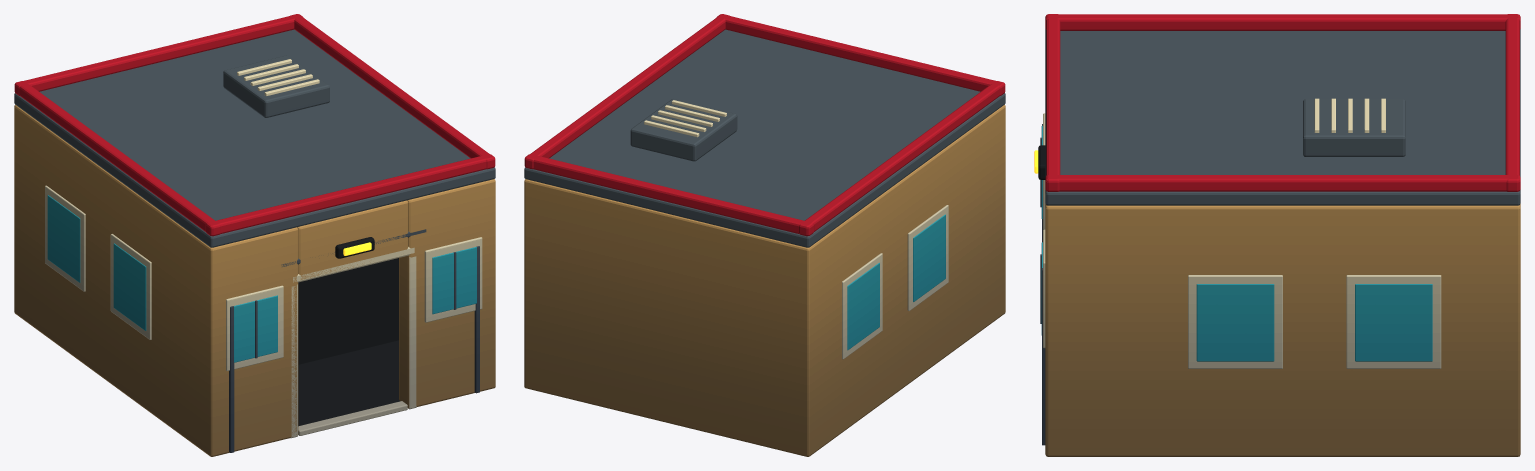
The model's file is relayHouse.glb.
The picture shows the model from 3 angles, left to right: view 1: azimuth 30°, elevation 25°; view 2: azimuth 150°, elevation 25°; view 3: azimuth 270°, elevation 25°; orthographic projection. The views are drawn at different scales.
Visible parts, largest first — view 1: Roof slab, Left wall, Left front pier, Right front pier, Interior shadow wall, Interior floor, Door lintel, Raised roof edge.002, Raised roof edge.003, Raised roof edge, Raised roof edge.001, Roof exhaust housing (+15 smaller); view 2: Rear wall, Roof slab, Left wall, Raised roof edge.003, Raised roof edge.002, Raised roof edge, Raised roof edge.001, Roof exhaust housing, Side window glass.001, Side window glass, Left front pier, Side window trim (+1 smaller); view 3: Right wall, Roof slab, Raised roof edge.001, Raised roof edge, Side window glass.002, Side window glass.003, Right front pier, Rear wall, Roof exhaust housing, Side window trim.003, Side window trim.002, Raised roof edge.002 (+1 smaller).
Part boxes in pixels (x1,y1,x2,y2): Roof slab: (14,29,495,247); Left wall: (20,109,205,452); Left front pier: (201,227,298,456); Right front pier: (399,179,495,408); Interior shadow wall: (298,258,398,364); Interior floor: (298,340,400,426); Door lintel: (297,200,408,279); Raised roof edge.002: (205,154,495,235); Raised roof edge.003: (14,14,303,95); Raised roof edge: (16,81,220,236); Raised roof edge.001: (290,14,495,169); Roof exhaust housing: (223,55,329,117); Rear wall: (524,179,818,456); Roof slab: (524,29,1005,247); Left wall: (814,109,1000,452); Raised roof edge.003: (524,154,814,235); Raised roof edge.002: (716,14,1005,95); Raised roof edge: (799,81,1003,236); Raised roof edge.001: (524,14,729,169); Roof exhaust housing: (630,98,737,161); Side window glass.001: (847,262,879,350); Side window glass: (913,214,945,301); Left front pier: (997,105,1005,317); Side window trim: (907,205,948,310); Right wall: (1060,205,1505,456); Roof slab: (1045,29,1520,205); Raised roof edge.001: (1045,175,1520,191); Raised roof edge: (1045,14,1520,30); Side window glass.002: (1196,284,1274,361); Side window glass.003: (1355,284,1432,361); Right front pier: (1045,203,1067,456); Rear wall: (1498,203,1520,456); Roof exhaust housing: (1303,99,1405,156); Side window trim.003: (1346,275,1441,368); Side window trim.002: (1188,275,1282,368); Raised roof edge.002: (1046,14,1060,191).
Size of the model in its own units: 5.09 by 4.05 by 6.14.
7 materials, 5 textured.
